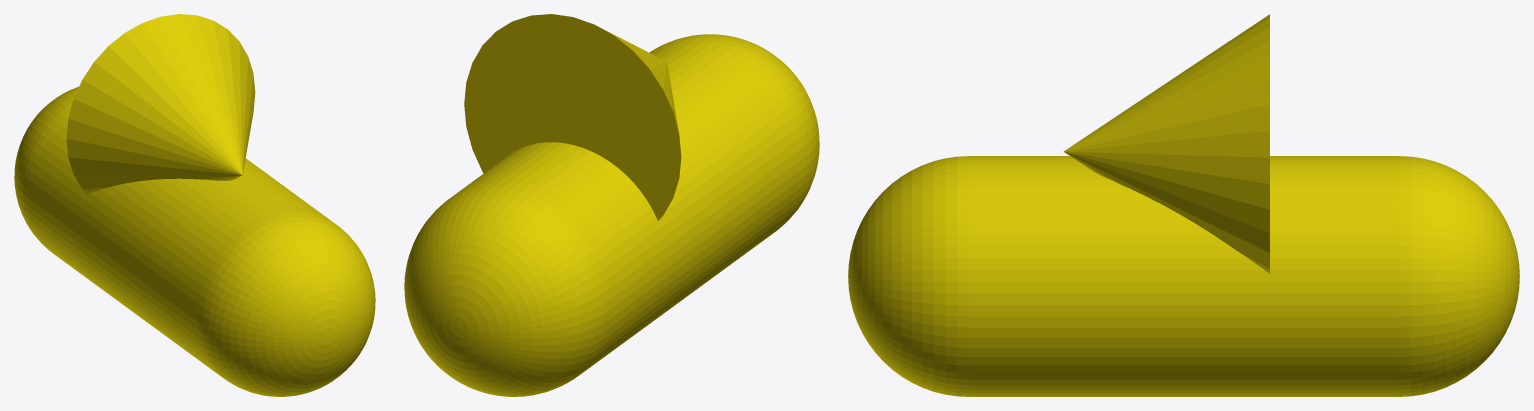
File: creature_5.glb
3 views of the same model, side by side, from view 1: azimuth 30°, elevation 25°; view 2: azimuth 150°, elevation 25°; view 3: azimuth 270°, elevation 25° (orthographic). The views are drawn at different scales.
Parts seen in each view (by area): view 1: geometry_0; view 2: geometry_0; view 3: geometry_0.
Part boxes in pixels (<box>): geometry_0: <box>14,14,375,396</box>; geometry_0: <box>404,14,819,396</box>; geometry_0: <box>848,14,1519,396</box>.
Size of the model in its own units: 1.6 by 2.3 by 3.9.
